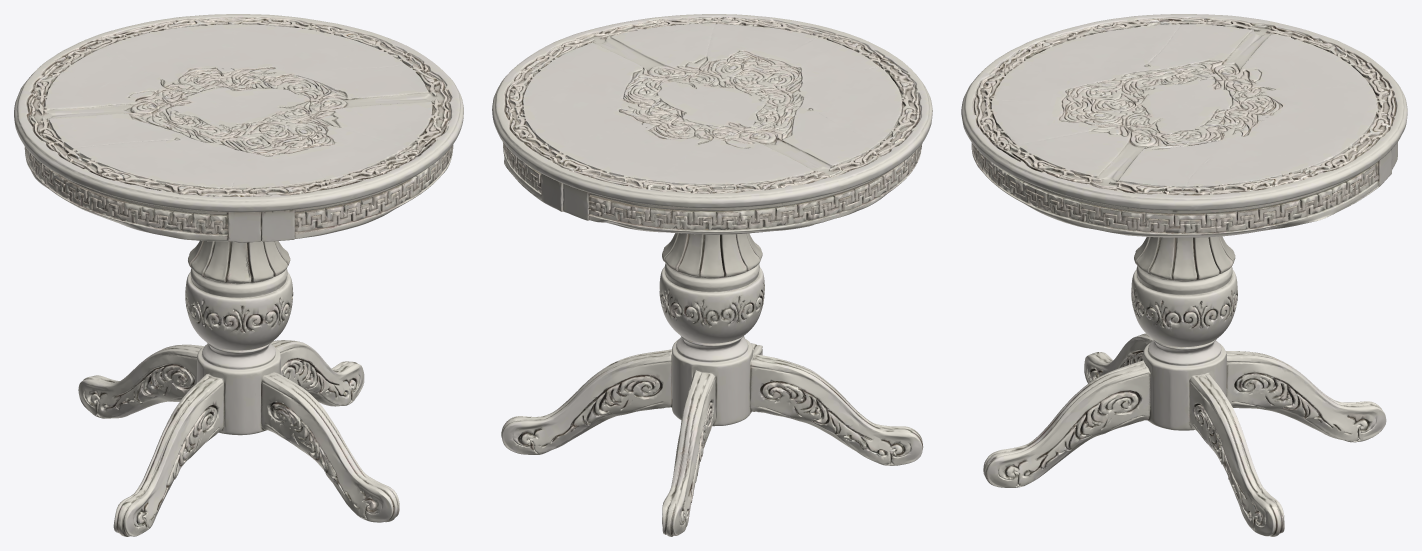
Rendered from Tumbolino.glb.
3 renders of one model, left to right at view 1: azimuth 30°, elevation 25°; view 2: azimuth 150°, elevation 25°; view 3: azimuth 270°, elevation 25°, orthographic. The views are drawn at different scales.
Visible parts, largest first — view 1: tripo_node_de3fdb1d-d8ae-4740-b7ee-84d92157174e; view 2: tripo_node_de3fdb1d-d8ae-4740-b7ee-84d92157174e; view 3: tripo_node_de3fdb1d-d8ae-4740-b7ee-84d92157174e.
Boxes of the visible parts, <box> form: tripo_node_de3fdb1d-d8ae-4740-b7ee-84d92157174e: <box>14,14,463,536</box>; tripo_node_de3fdb1d-d8ae-4740-b7ee-84d92157174e: <box>492,14,932,536</box>; tripo_node_de3fdb1d-d8ae-4740-b7ee-84d92157174e: <box>961,14,1407,536</box>.
Bounding box in the file's own units: 0.9785 × 0.8627 × 0.9791.
Materials: 1 (1 with a texture image).
